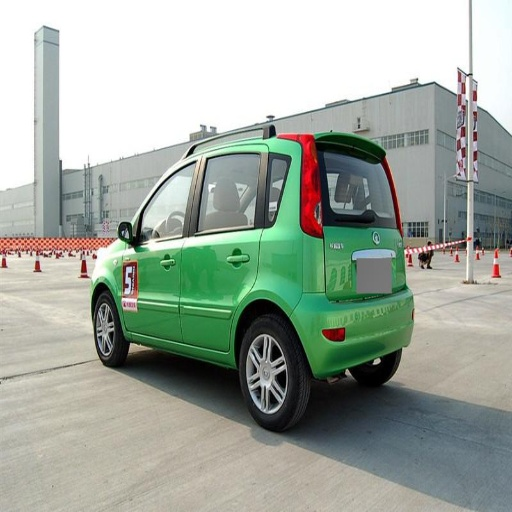back_bumper: (295, 286, 414, 376)
back_left_door: (181, 143, 267, 350)
trunk: (327, 205, 395, 304)
